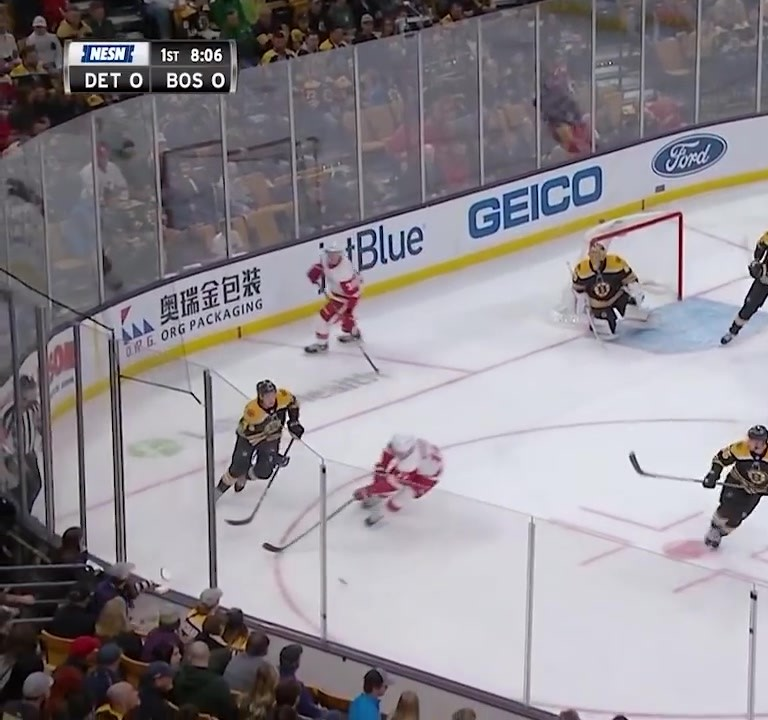Geico: (466, 167, 617, 241)
